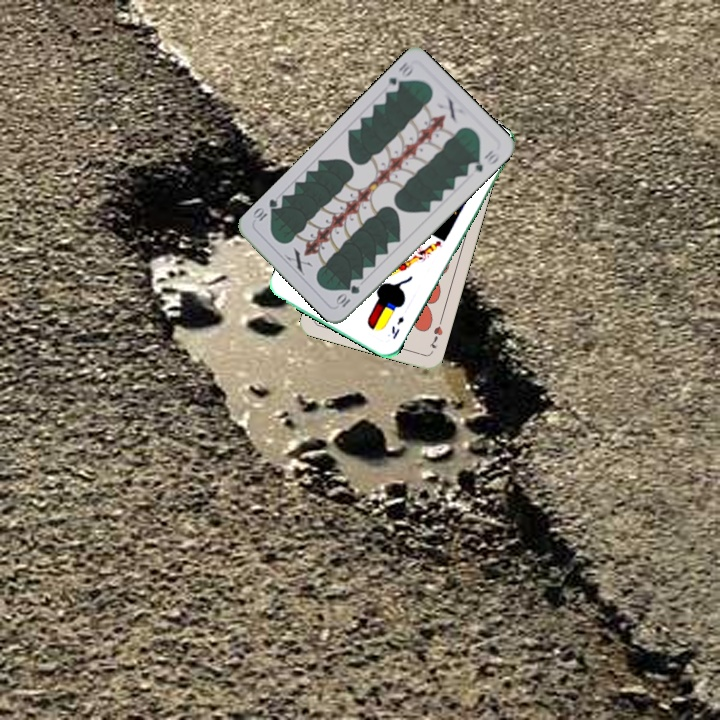EK: (387, 312, 407, 342)
G10: (381, 58, 416, 95), (332, 281, 362, 310)
H7: (426, 315, 445, 351)
